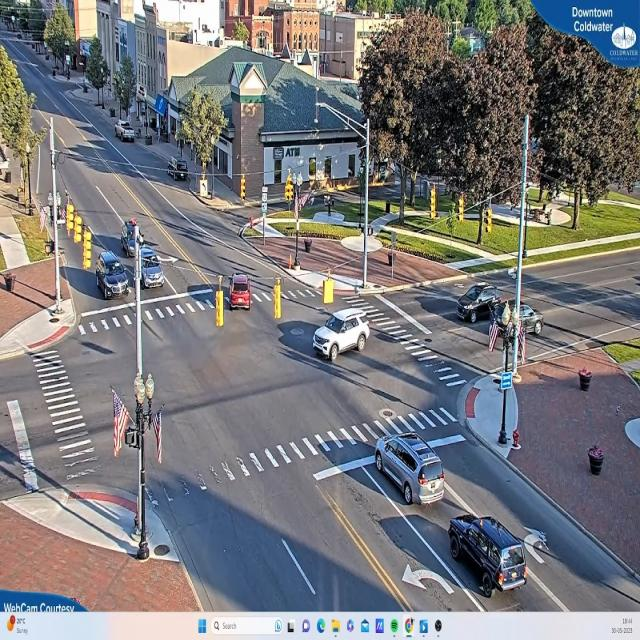car: (450, 515, 532, 595), (374, 432, 445, 505), (312, 312, 371, 360), (457, 286, 503, 324), (96, 252, 128, 303), (136, 252, 168, 290), (227, 272, 254, 312), (117, 122, 137, 144)
